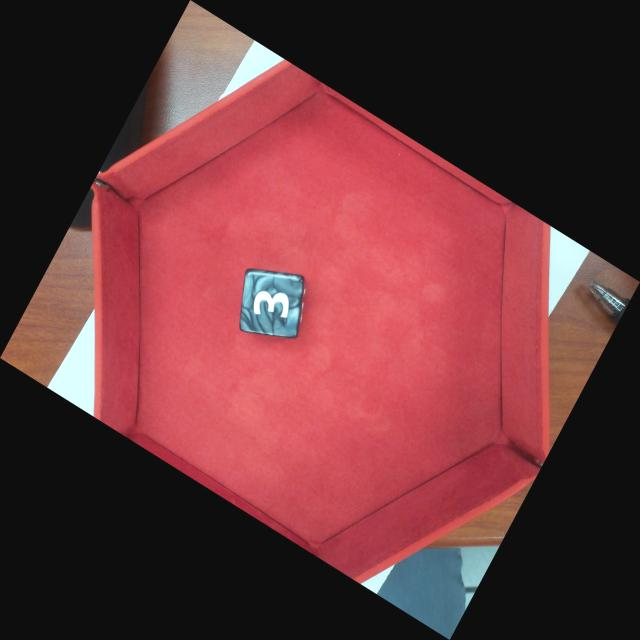dice: (241, 273, 306, 336)
